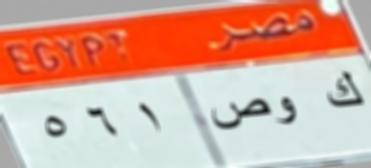1: (128, 96, 169, 138)
5: (36, 106, 73, 143)
6: (82, 100, 120, 146)
kaaf: (321, 64, 368, 117)
saad: (210, 90, 270, 131)
waw: (272, 91, 302, 131)
